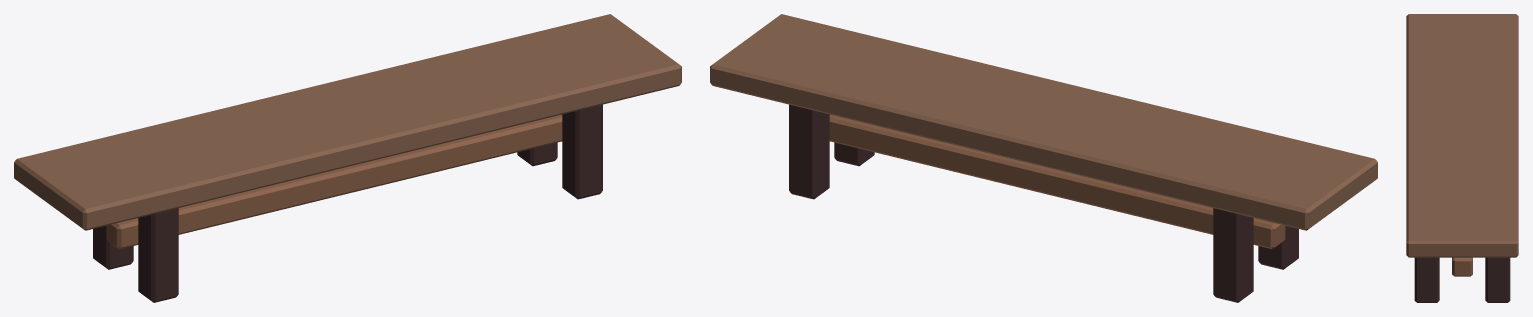
Rendered from rest_bench.glb.
The picture shows the model from 3 angles, left to right: view 1: azimuth 30°, elevation 25°; view 2: azimuth 150°, elevation 25°; view 3: azimuth 270°, elevation 25°; orthographic projection. The views are drawn at different scales.
Parts seen in each view (by area): view 1: rest_bench_Floor, rest_bench_Cedar, rest_bench_Timber; view 2: rest_bench_Floor, rest_bench_Cedar, rest_bench_Timber; view 3: rest_bench_Floor, rest_bench_Timber, rest_bench_Cedar.
Part boxes in pixels (bbox=[...]): rest_bench_Floor: bbox=[14, 14, 681, 230]; rest_bench_Cedar: bbox=[106, 114, 562, 249]; rest_bench_Timber: bbox=[93, 104, 602, 302]; rest_bench_Floor: bbox=[710, 14, 1377, 230]; rest_bench_Cedar: bbox=[829, 114, 1285, 249]; rest_bench_Timber: bbox=[789, 104, 1298, 302]; rest_bench_Floor: bbox=[1406, 14, 1518, 257]; rest_bench_Timber: bbox=[1414, 257, 1510, 302]; rest_bench_Cedar: bbox=[1452, 257, 1472, 276].
Bounding box in the file's own units: 2.6 × 0.48 × 0.54.
